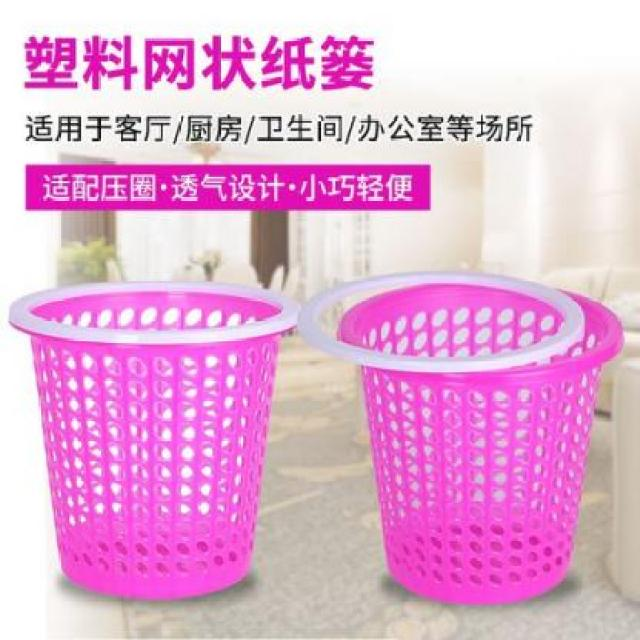dustbin: (298, 267, 628, 608), (5, 274, 302, 603)
